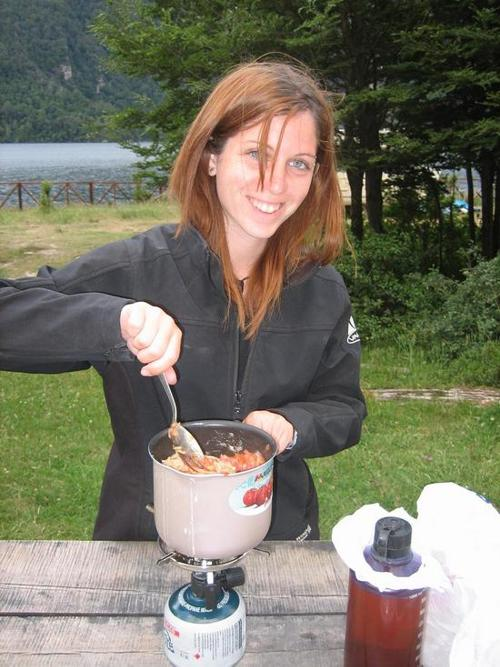person: (1, 60, 368, 541)
